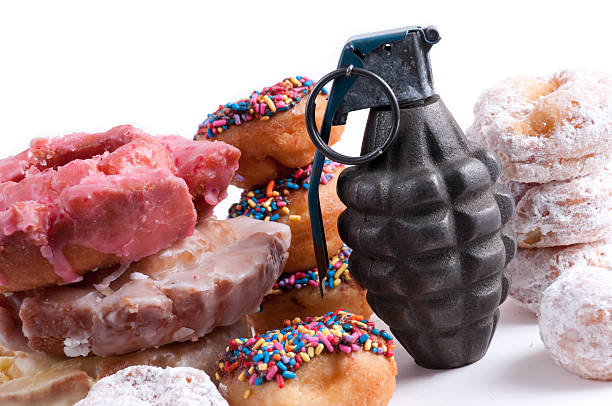e1: (301, 24, 518, 372)
